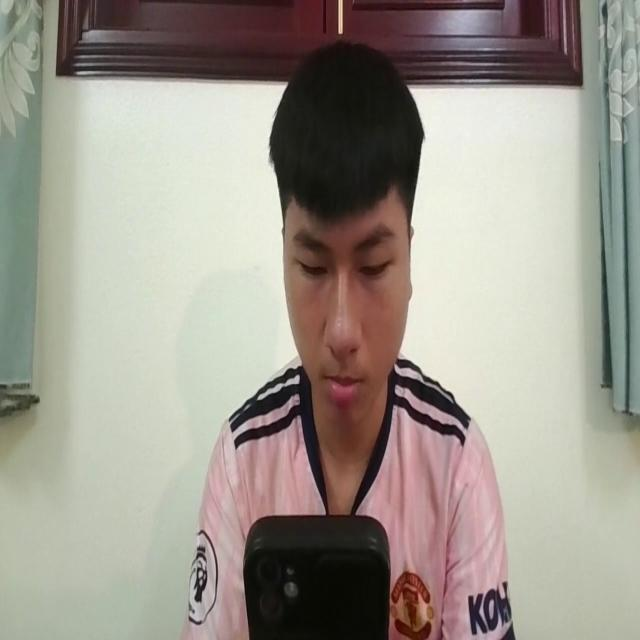phone: (244, 504, 392, 640)
student: (187, 35, 518, 640)
